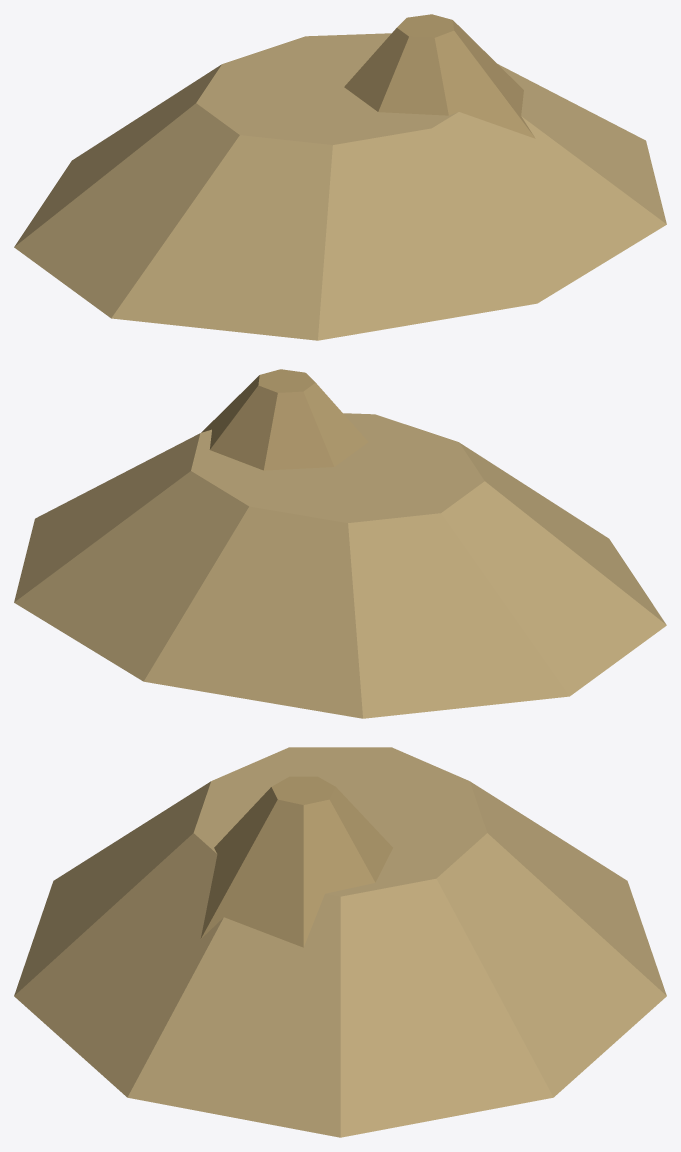
Rendered from v2-sand-pile.glb.
3 renders of one model, top to bottom at view 1: azimuth 30°, elevation 25°; view 2: azimuth 150°, elevation 25°; view 3: azimuth 270°, elevation 25°, orthographic. The views are drawn at different scales.
Visible parts, largest first — view 1: v2-sand-pile; view 2: v2-sand-pile; view 3: v2-sand-pile.
Part boxes in pixels (x1=…): v2-sand-pile: x1=14, y1=14, x2=666, y2=340; v2-sand-pile: x1=14, y1=369, x2=666, y2=718; v2-sand-pile: x1=14, y1=747, x2=666, y2=1137.
Bounding box in the file's own units: 1.07 × 0.32 × 0.8863.
